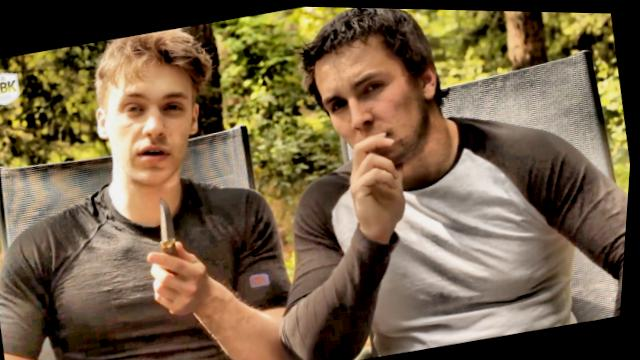knife: (126, 183, 209, 294)
